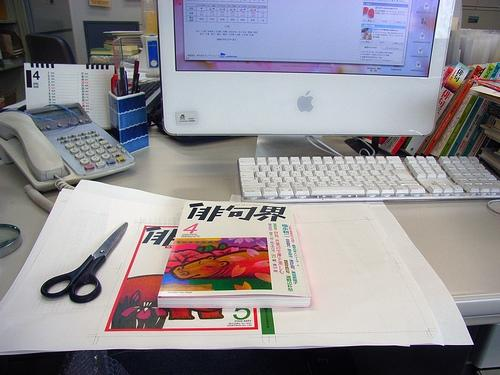apple: (296, 90, 314, 112)
